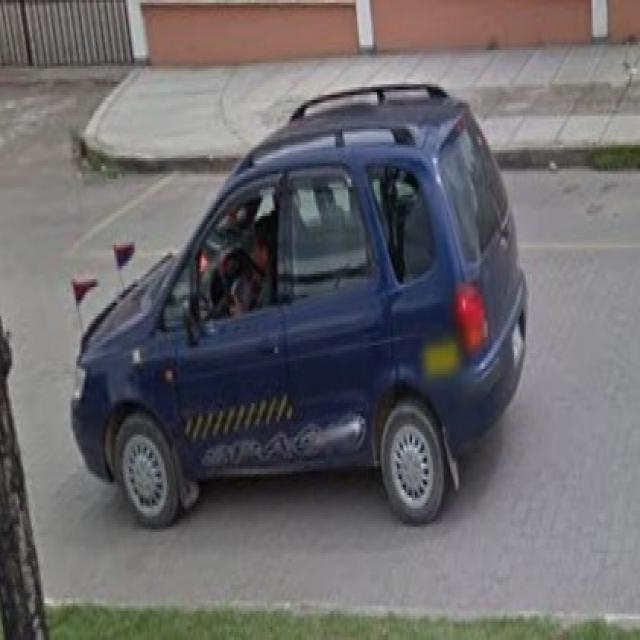Car: (68, 96, 530, 526)
